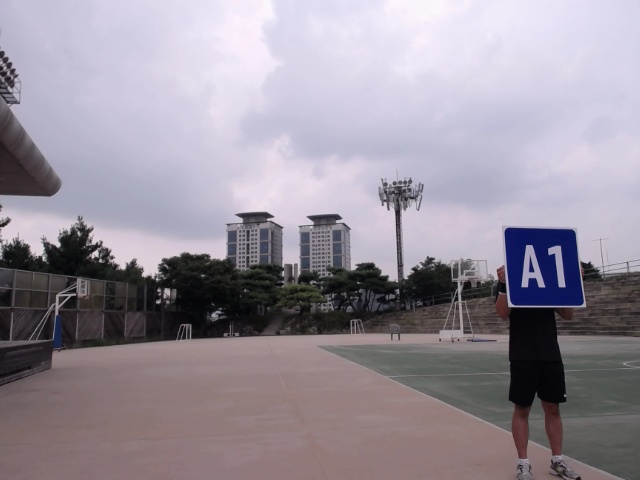delivery_a1: (503, 226, 586, 307)
